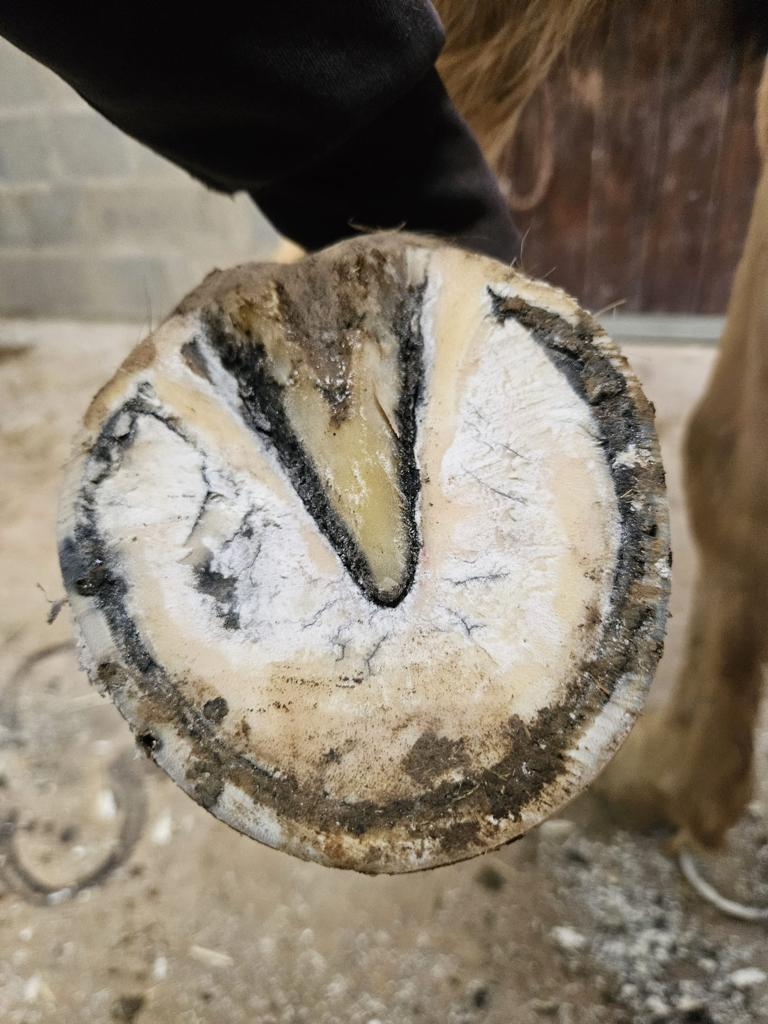horsesole: (54, 246, 672, 874)
